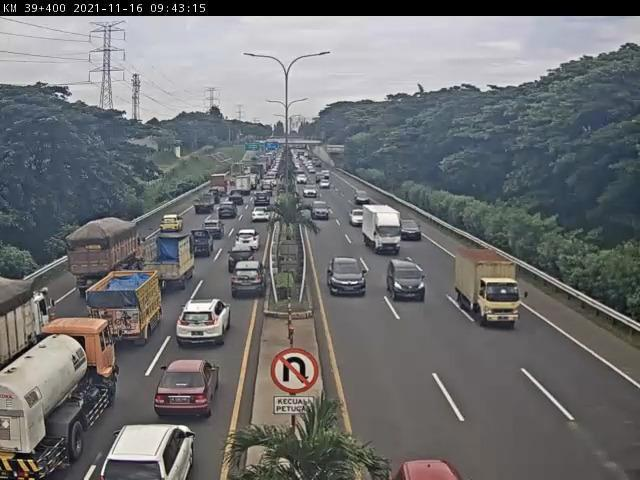car: (104, 425, 195, 480), (156, 361, 219, 419), (177, 300, 234, 351), (325, 257, 374, 303), (385, 256, 427, 307), (230, 268, 265, 307), (229, 252, 255, 278), (397, 219, 423, 240), (191, 197, 213, 218), (311, 198, 332, 220), (236, 231, 259, 251), (160, 214, 184, 233), (350, 208, 369, 231), (203, 222, 224, 242), (353, 186, 373, 206), (252, 207, 271, 224), (217, 205, 237, 221), (255, 195, 272, 211), (304, 183, 319, 200), (228, 193, 244, 207), (320, 179, 335, 192), (261, 182, 274, 197), (206, 192, 218, 207)
truck: (2, 317, 120, 479), (448, 246, 528, 333), (63, 220, 141, 298), (89, 273, 163, 347), (2, 279, 49, 373), (139, 235, 193, 293), (362, 206, 401, 253), (188, 232, 215, 259), (210, 176, 229, 199), (237, 177, 254, 198)
